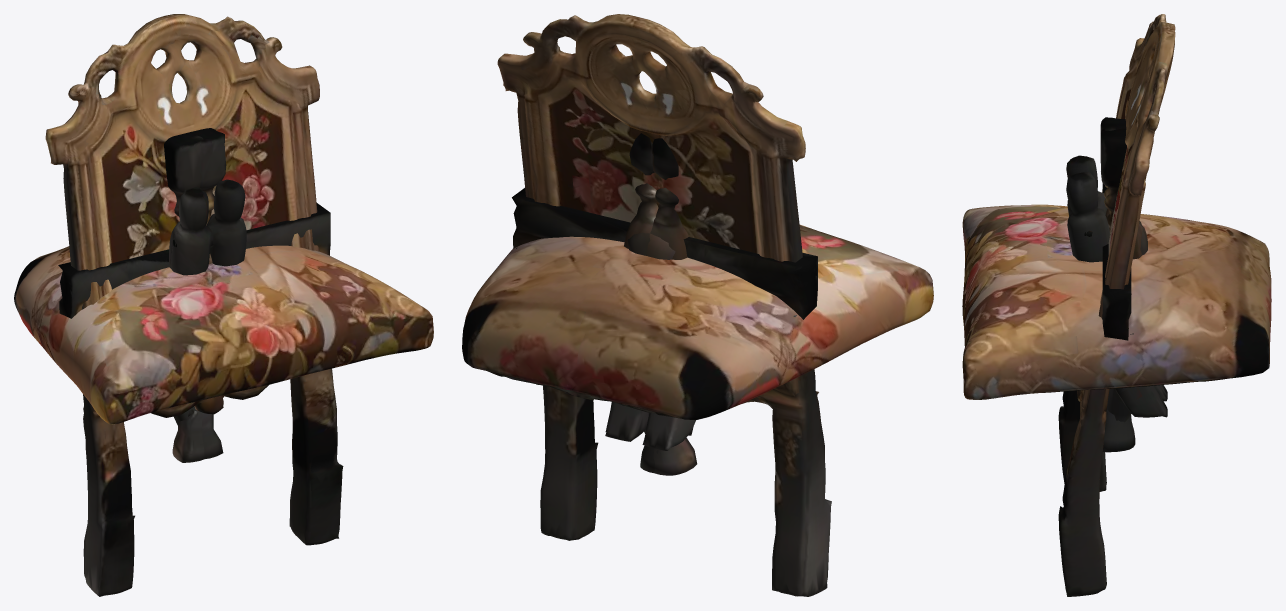
3 renders of one model, left to right at view 1: azimuth 30°, elevation 25°; view 2: azimuth 150°, elevation 25°; view 3: azimuth 270°, elevation 25°, orthographic. The views are drawn at different scales.
Parts seen in each view (by area): view 1: root.0, root.1, root.2, root.5, root.3, root.4, root.6; view 2: root.0, root.1, root.2, root.4, root.3, root.5, root.6; view 3: root.1, root.0, root.6, root.4, root.2, root.3, root.5.
Boxes of the visible parts, x1,y1,x2,y2 form: root.0: (45,14,343,596); root.1: (14,245,433,424); root.2: (58,203,330,318); root.5: (169,186,213,275); root.3: (164,132,223,458); root.4: (172,128,226,462); root.6: (173,179,246,266); root.0: (497,14,831,596); root.1: (462,224,933,419); root.2: (512,188,817,319); root.4: (624,133,697,475); root.3: (627,138,688,472); root.5: (642,412,695,450); root.6: (605,402,648,441); root.1: (962,204,1271,399); root.0: (1058,14,1175,596); root.6: (1066,171,1167,417); root.4: (1100,128,1147,439); root.2: (1102,184,1131,340); root.3: (1100,117,1147,452); root.5: (1066,155,1167,401).
Size of the model in its own units: 15590 by 23469 by 12811.
Materials: 1 (1 with a texture image).
